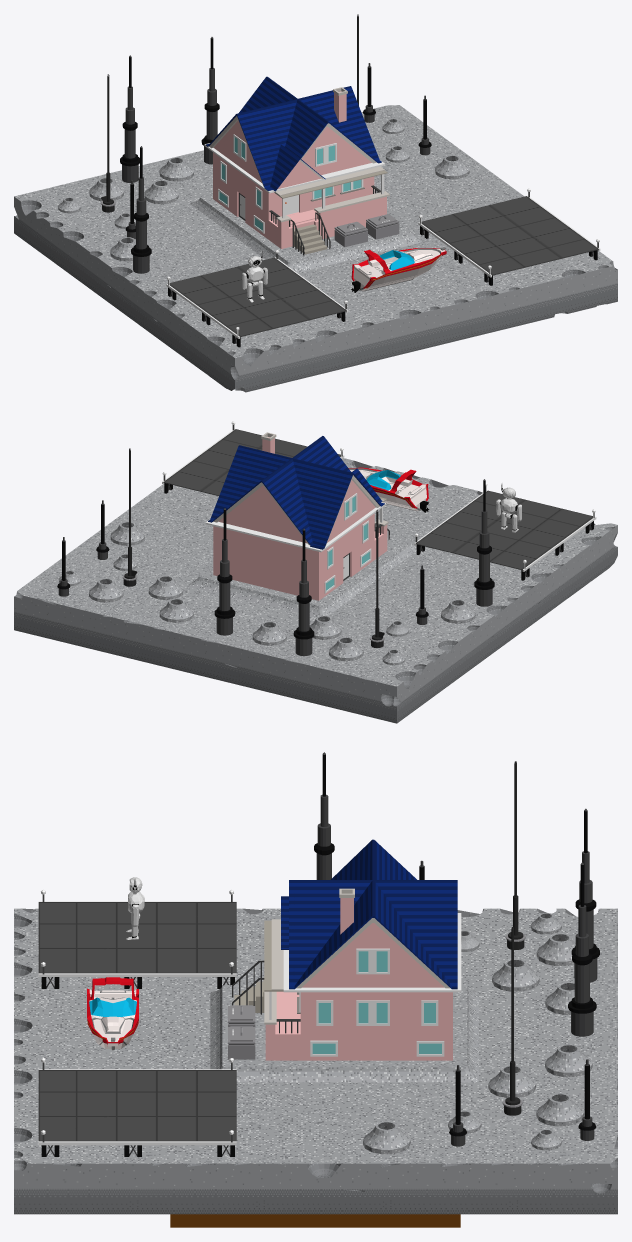
The picture shows the model from 3 angles, top to bottom: view 1: azimuth 30°, elevation 25°; view 2: azimuth 150°, elevation 25°; view 3: azimuth 270°, elevation 25°; orthographic projection. The views are drawn at different scales.
Parts seen in each view (by area): view 1: Cube.027, Cube.313, Cube.026, Cube.025, Cube.028, VEHICLES_BOAT, Cylinder.020, Cylinder.021, Cylinder.017, OBJRANDOM_PLATZEEBOT, Cube.029, Cube.030 (+5 smaller); view 2: Cube.027, Cube.313, Cube.025, Cube.028, Cube.026, VEHICLES_BOAT, Cylinder.020, Cylinder.017, Cylinder.021, OBJRANDOM_PLATZEEBOT, Cylinder.030, Cylinder.025 (+8 smaller); view 3: Cube.027, Cube.313, Cube.026, Cube.025, Cube.028, UNDERGROUND_ART_PIECE_VAN_GOGH, VEHICLES_BOAT, Cylinder.017, Cylinder.020, Cylinder.021, Cylinder.033, Cylinder.031 (+11 smaller).
Part boxes in pixels (bbox=[...]): Cube.027: bbox=[14, 105, 617, 392]; Cube.313: bbox=[204, 76, 389, 255]; Cube.026: bbox=[418, 188, 600, 285]; Cube.025: bbox=[166, 250, 348, 347]; Cube.028: bbox=[190, 194, 422, 272]; VEHICLES_BOAT: bbox=[351, 247, 446, 292]; Cylinder.020: bbox=[120, 55, 139, 182]; Cylinder.021: bbox=[131, 146, 151, 273]; Cylinder.017: bbox=[201, 37, 219, 164]; OBJRANDOM_PLATZEEBOT: bbox=[242, 251, 267, 302]; Cube.029: bbox=[334, 221, 367, 247]; Cube.030: bbox=[366, 214, 399, 239]; Cube.027: bbox=[14, 458, 617, 723]; Cube.313: bbox=[205, 432, 389, 600]; Cube.025: bbox=[414, 483, 596, 580]; Cube.028: bbox=[188, 535, 416, 617]; Cube.026: bbox=[162, 421, 344, 495]; VEHICLES_BOAT: bbox=[348, 467, 429, 512]; Cylinder.020: bbox=[293, 528, 314, 656]; Cylinder.017: bbox=[214, 508, 235, 635]; Cylinder.021: bbox=[474, 479, 494, 606]; OBJRANDOM_PLATZEEBOT: bbox=[496, 483, 521, 532]; Cylinder.030: bbox=[148, 575, 183, 599]; Cylinder.025: bbox=[441, 599, 475, 623]; Cube.027: bbox=[14, 908, 617, 1214]; Cube.313: bbox=[232, 839, 461, 1060]; Cube.026: bbox=[38, 1058, 236, 1156]; Cube.025: bbox=[38, 889, 236, 988]; Cube.028: bbox=[210, 985, 478, 1082]; UNDERGROUND_ART_PIECE_VAN_GOGH: bbox=[170, 1214, 460, 1227]; VEHICLES_BOAT: bbox=[87, 977, 138, 1050]; Cylinder.017: bbox=[568, 862, 596, 1036]; Cylinder.020: bbox=[571, 808, 599, 982]; Cylinder.021: bbox=[314, 752, 334, 879]; Cylinder.033: bbox=[363, 1121, 410, 1154]; Cylinder.031: bbox=[536, 1093, 583, 1126].
Size of the model in its own units: 4000 by 1925 by 4000.
Materials: 29 (5 with a texture image).
